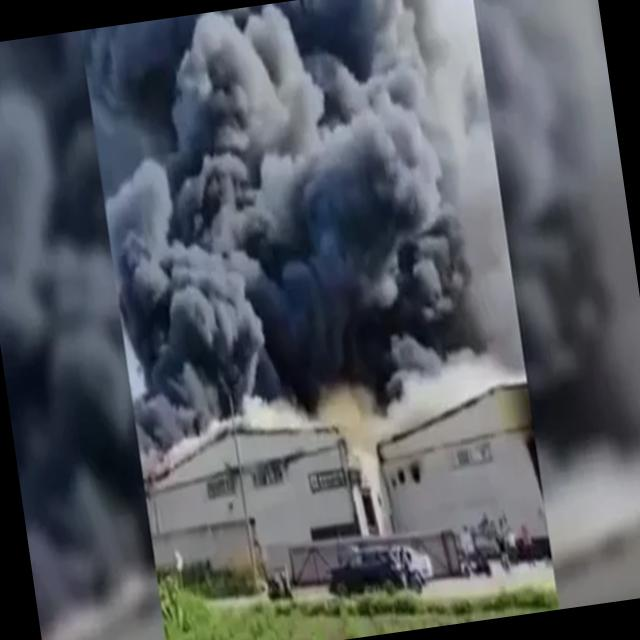Smoke: (82, 0, 525, 433)
